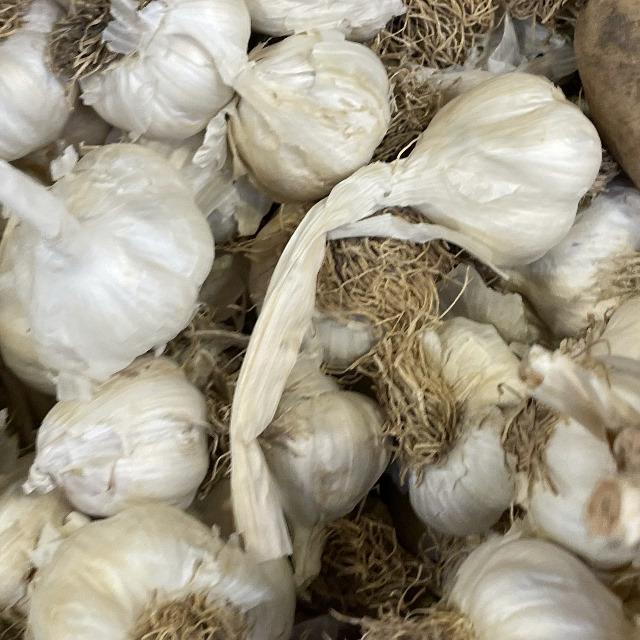garlic: (0, 485, 307, 640), (352, 527, 640, 640)
